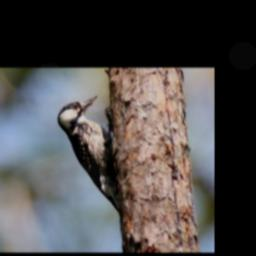Woodpecker: (57, 94, 120, 218)
